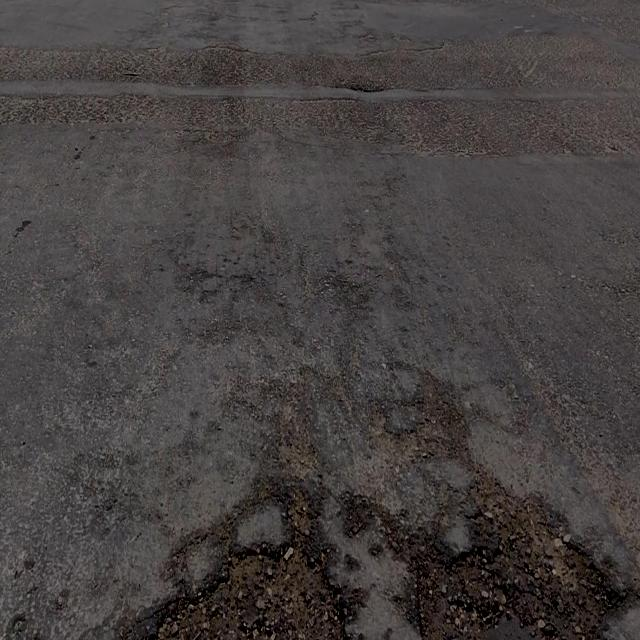Potholes: (416, 458, 632, 640), (146, 482, 350, 640)
